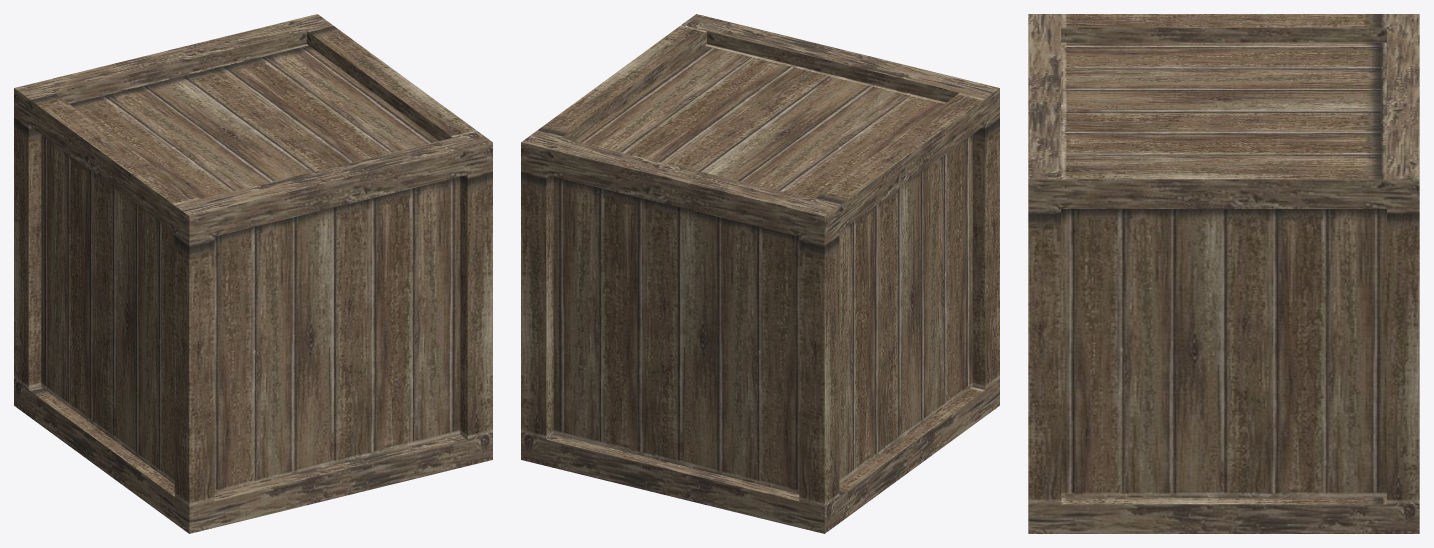
Rendered from data.dae.
The picture shows the model from 3 angles, left to right: view 1: azimuth 30°, elevation 25°; view 2: azimuth 150°, elevation 25°; view 3: azimuth 270°, elevation 25°; orthographic projection. The views are drawn at different scales.
Parts seen in each view (by area): view 1: Cube; view 2: Cube; view 3: Cube.
Part boxes in pixels (box(x1,y1,x2,y2)): Cube: box(14, 14, 492, 533); Cube: box(521, 14, 999, 533); Cube: box(1028, 14, 1419, 533).
Bounding box in the file's own units: 1.2 × 1.2 × 1.2.
1 material, 1 textured.
